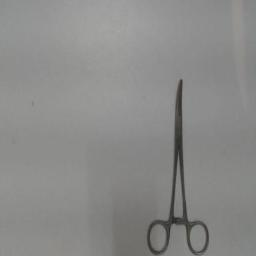Crile Artery Forceps: (142, 72, 210, 256)
